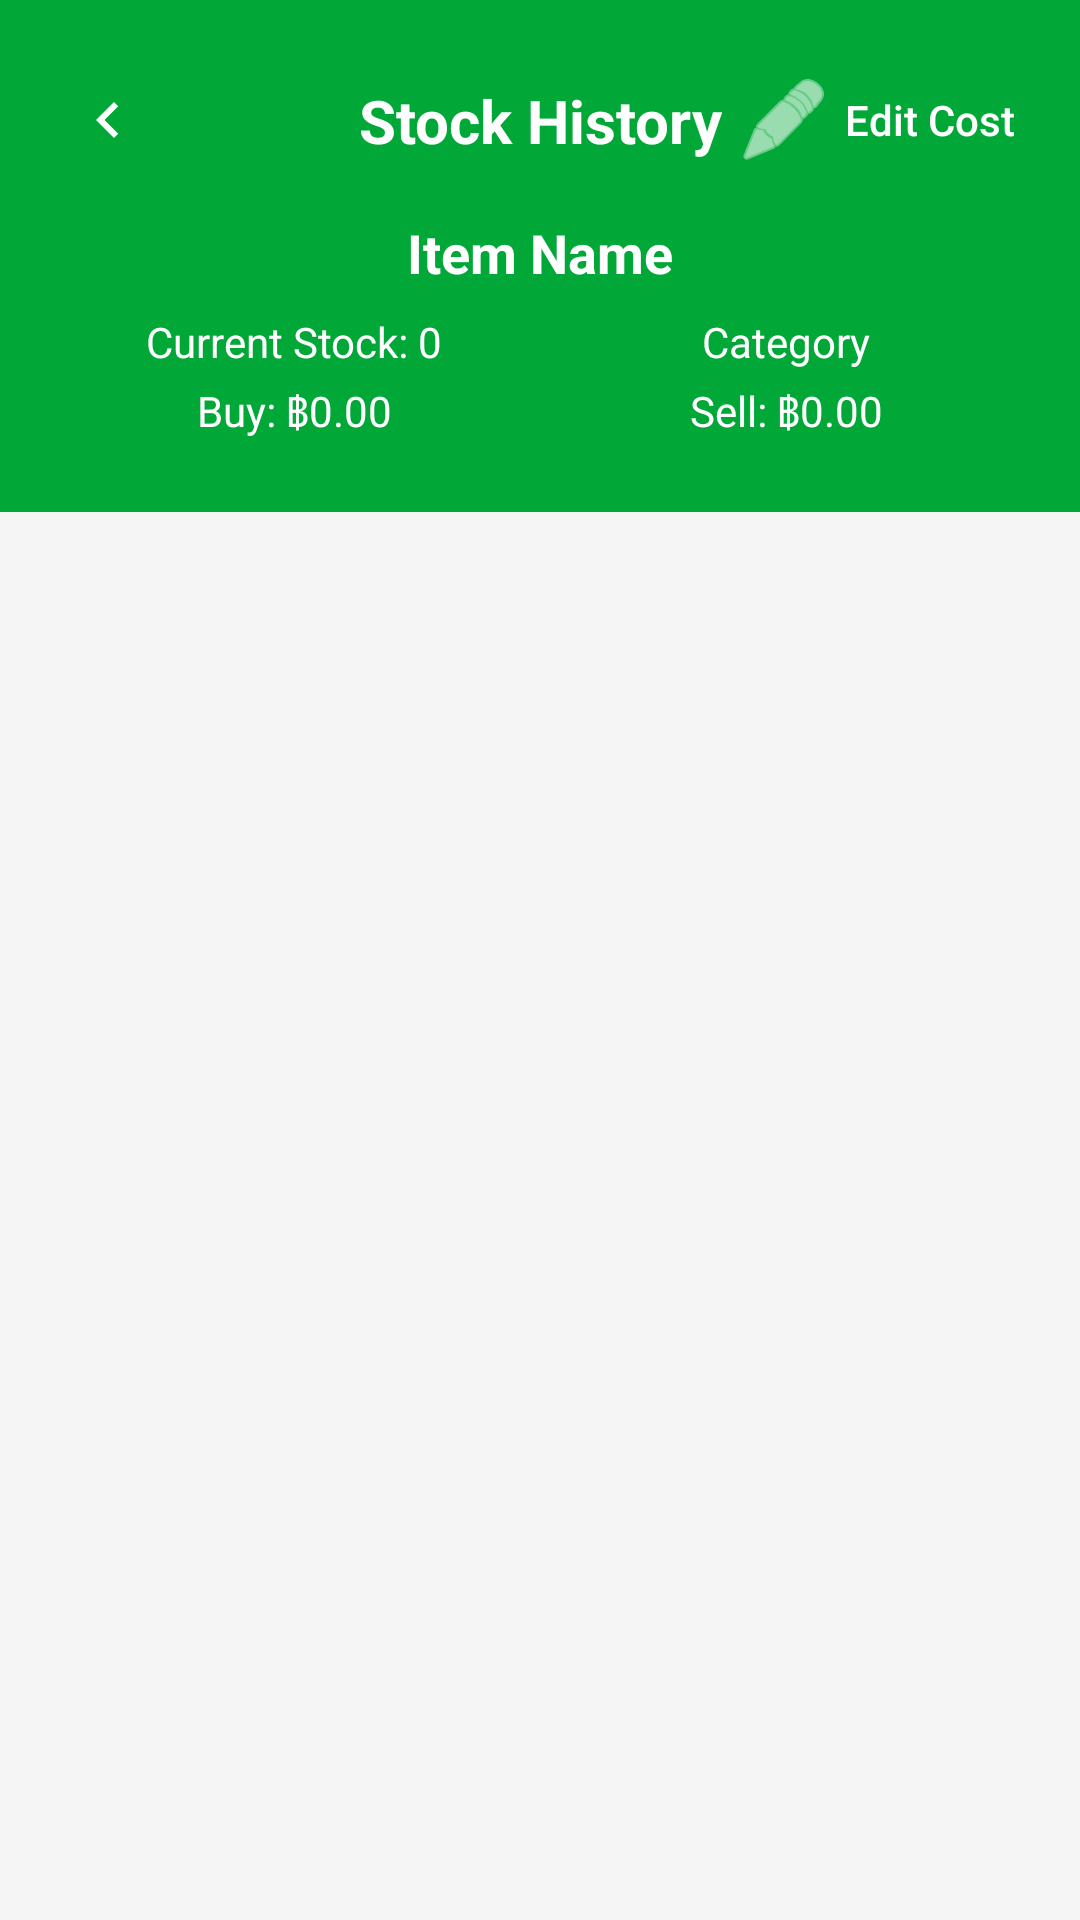

Where icons sit on this 1080 × 1920 app screen, as rect(x1, y1, x2, y2):
Back: rect(96, 102, 118, 138)
